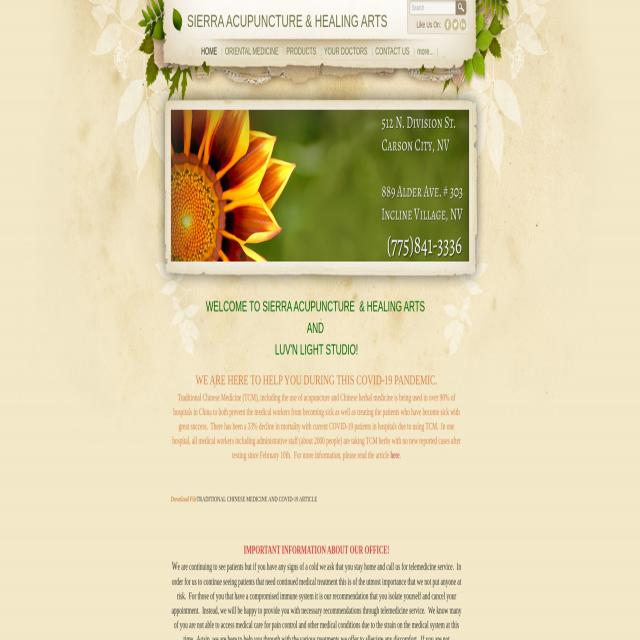button: (170, 110, 470, 262), (455, 0, 466, 15), (444, 19, 451, 31), (452, 19, 458, 31), (460, 19, 466, 31)
field: (409, 0, 455, 15)
